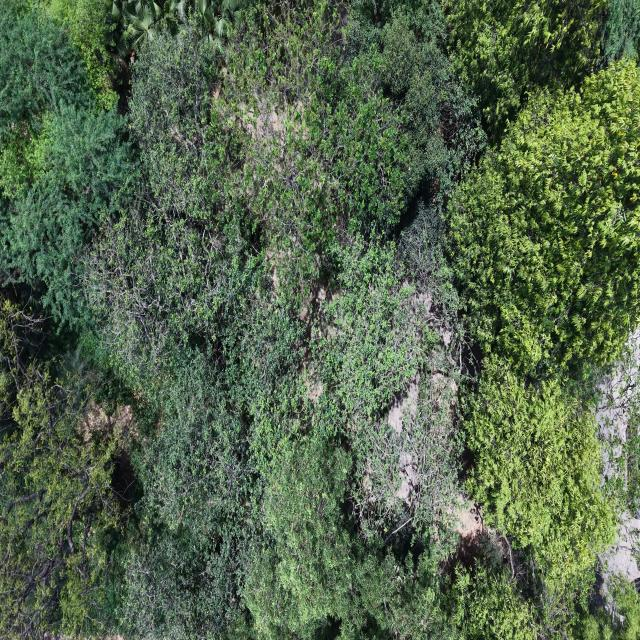VEGETATION_TREE: (0, 0, 639, 639), (449, 62, 639, 376), (0, 299, 130, 637), (0, 6, 134, 325), (245, 438, 454, 638), (465, 357, 616, 618), (445, 0, 639, 143), (446, 0, 609, 141), (596, 329, 639, 516), (45, 0, 118, 110), (450, 550, 537, 639), (103, 0, 241, 53), (576, 579, 639, 639), (601, 0, 639, 63), (623, 397, 639, 513)
